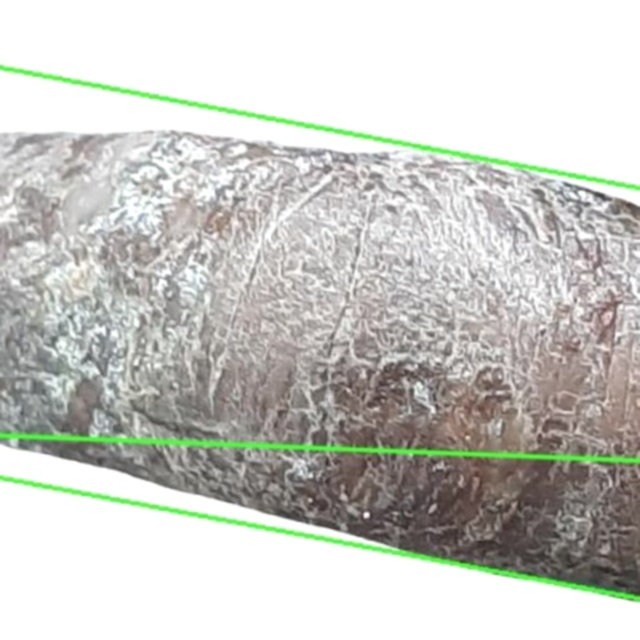Eczema: (0, 68, 639, 598), (0, 435, 639, 639)
